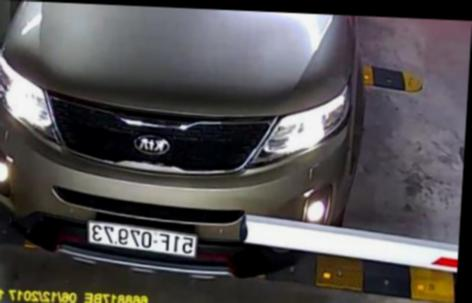License_Plate: (82, 213, 205, 270)
